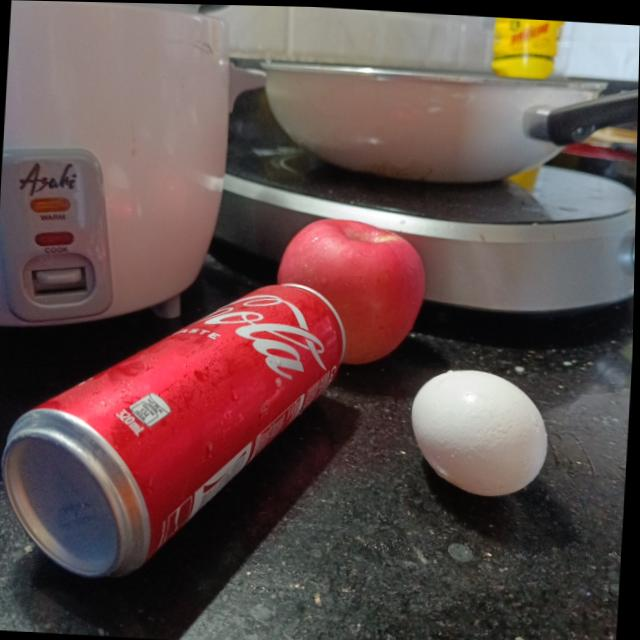apple: (279, 215, 434, 367)
coke: (0, 261, 348, 586)
egg: (410, 367, 551, 497)
